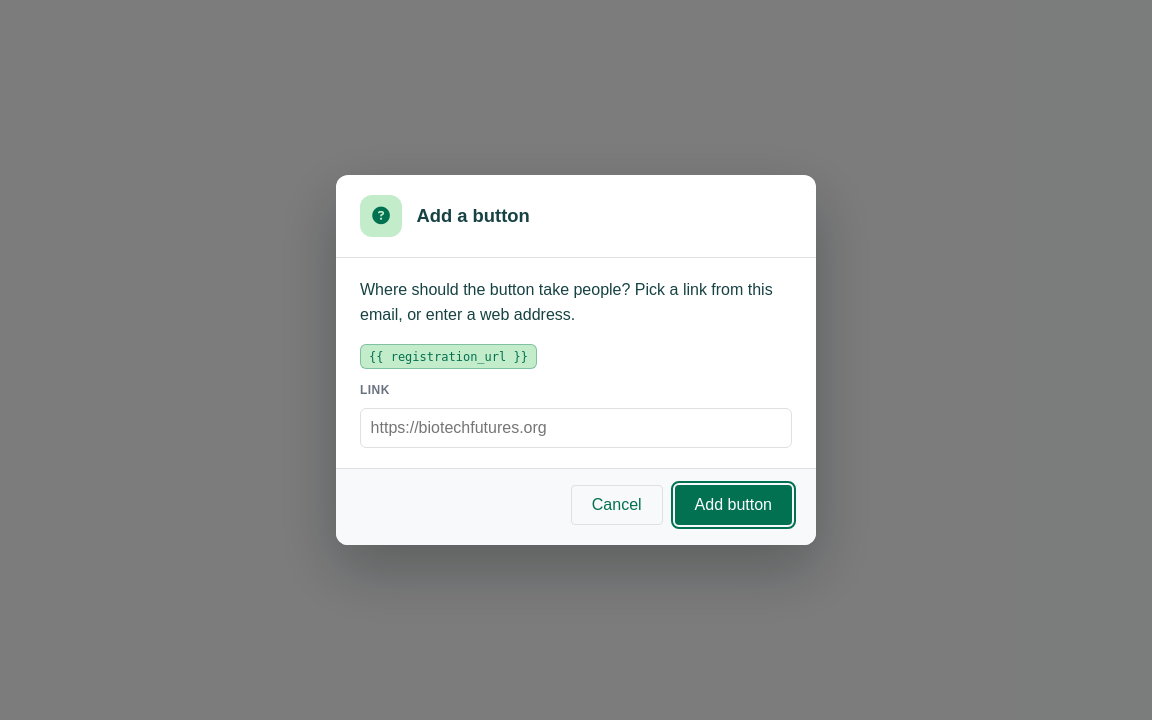
it: LinkDialog for an email button › explains a link it cannot use and stays open
Type "register here" into the field with class "link-dialog__input".
click(576, 428); type("register here")  # box [360,408,792,448]
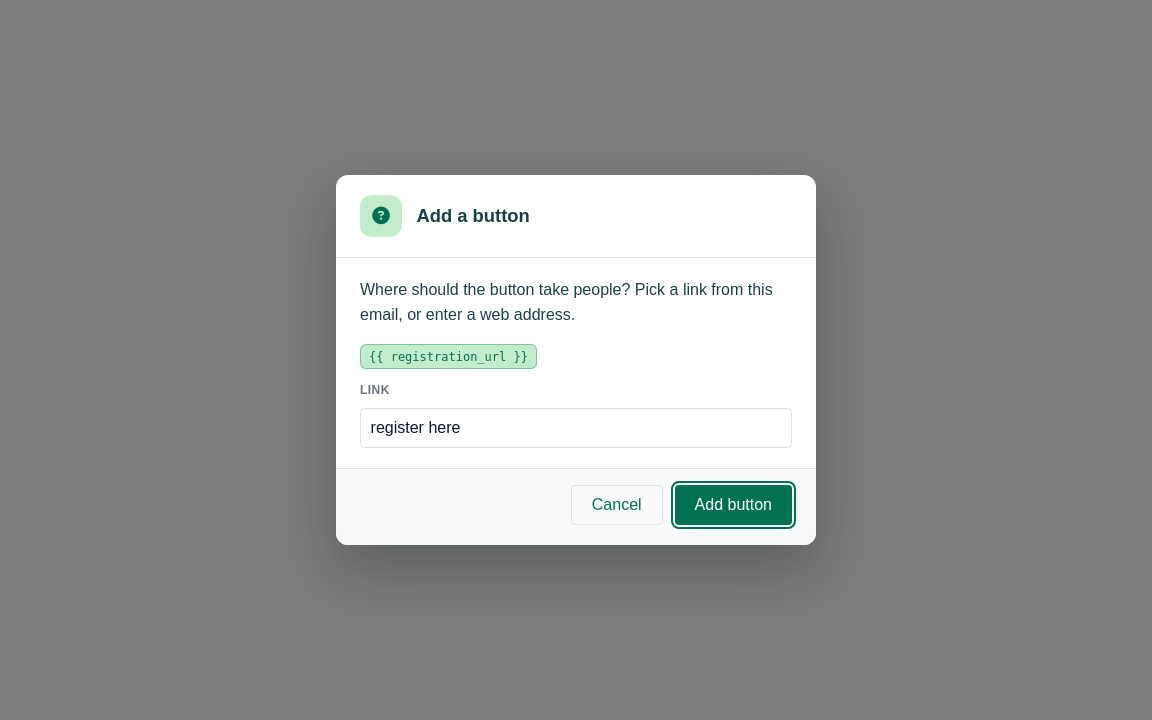
Press Enter in the field with class "link-dialog__input", box [360,408,792,448]
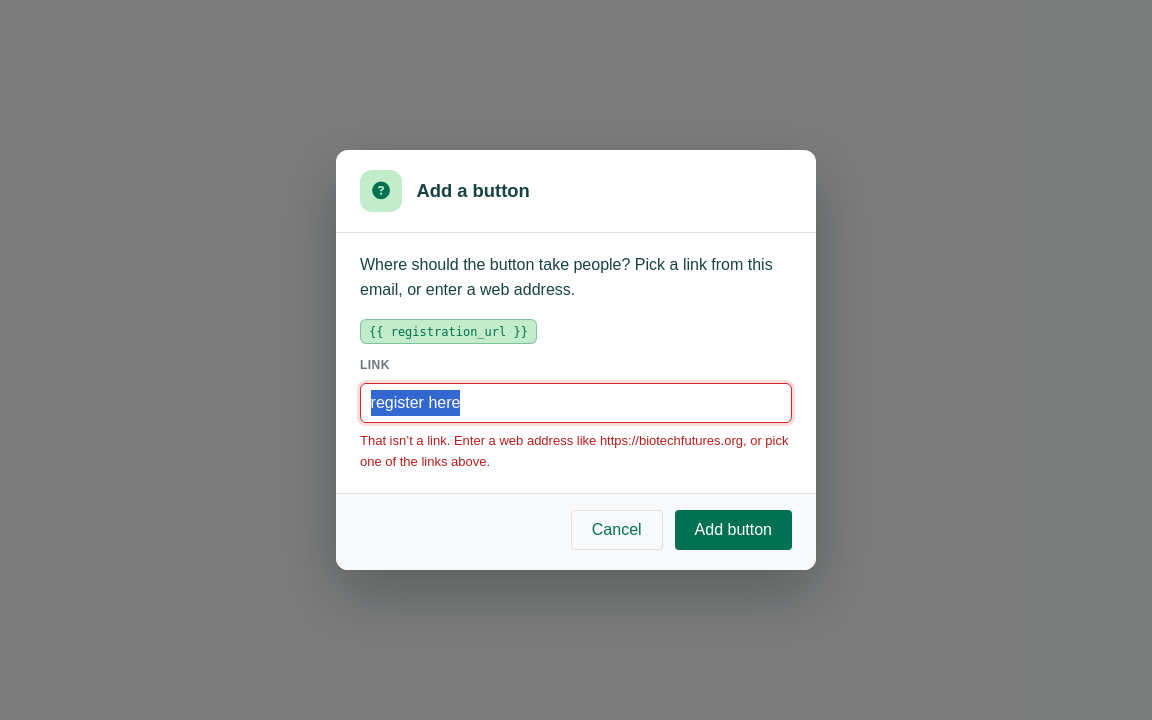
expect the message with class "link-dialog__error" shows "pick one of the links above": met, box [360,433,788,469]
